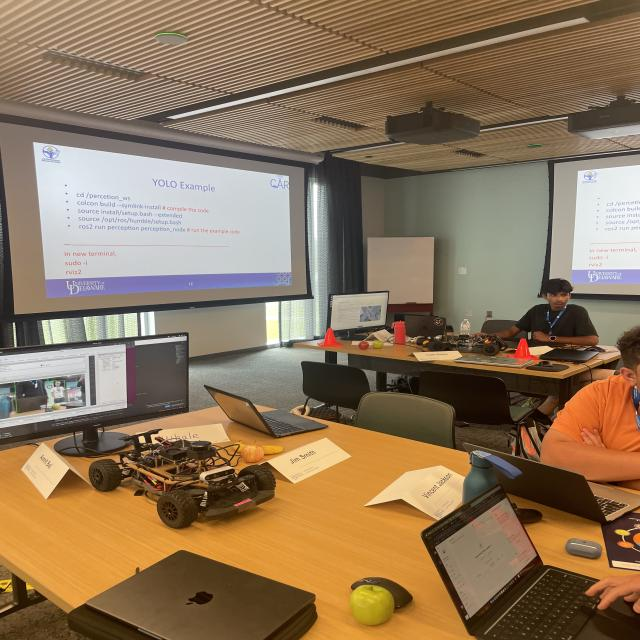Traffic Cone: (508, 338, 538, 362), (318, 328, 342, 348)
